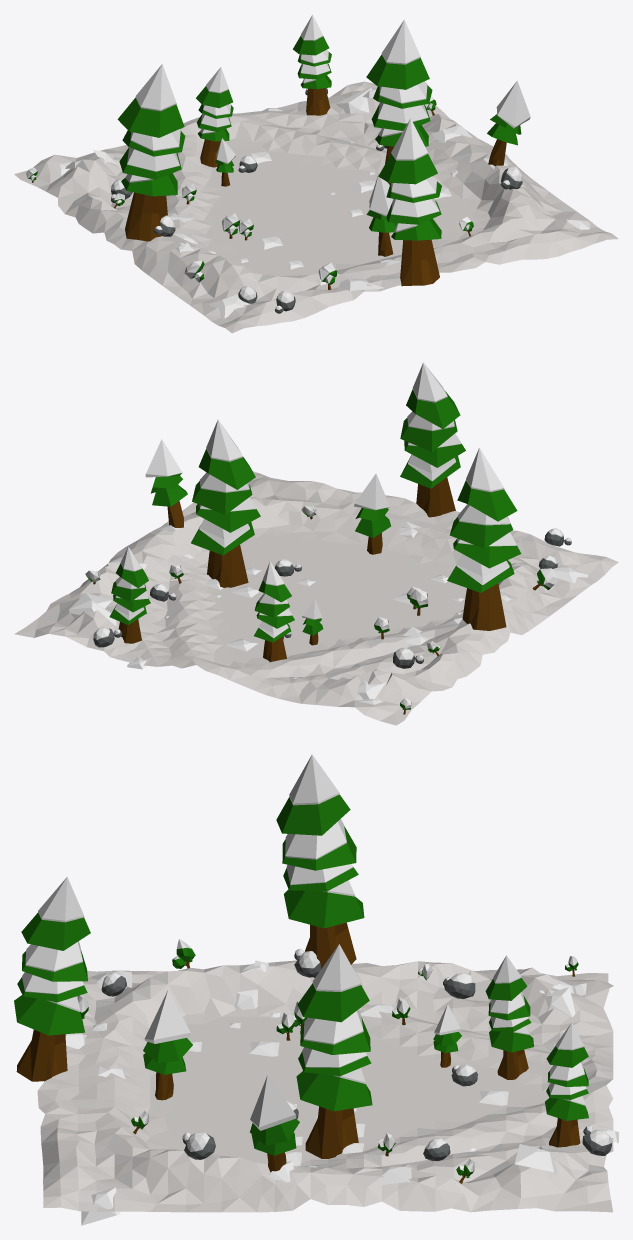
Rendered from Example Terrain #3.fbx.
3 renders of one model, top to bottom at view 1: azimuth 30°, elevation 25°; view 2: azimuth 150°, elevation 25°; view 3: azimuth 270°, elevation 25°, orthographic. The views are drawn at different scales.
Parts seen in each view (by area): view 1: Example Terrain #3; view 2: Example Terrain #3; view 3: Example Terrain #3.
Part boxes in pixels (left/top/right/bottom): Example Terrain #3: left=14, top=15, right=618, bottom=333; Example Terrain #3: left=14, top=362, right=618, bottom=725; Example Terrain #3: left=14, top=754, right=618, bottom=1225.
Bounding box in the file's own units: 2527 × 1231 × 2630.
